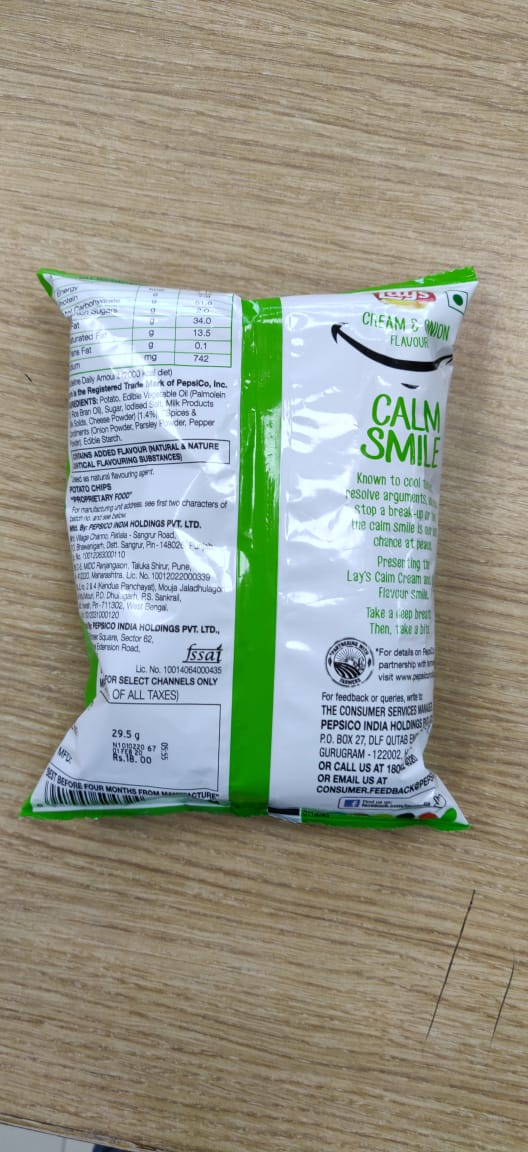lays chips: (17, 256, 485, 844)
